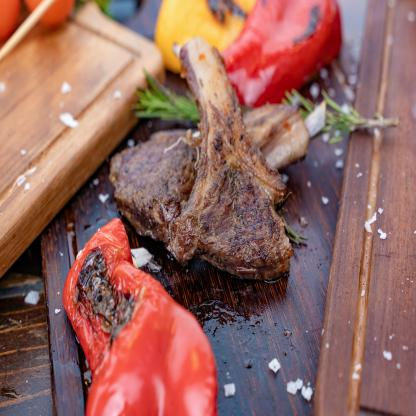Carne: (182, 130, 290, 289), (106, 119, 196, 235)
